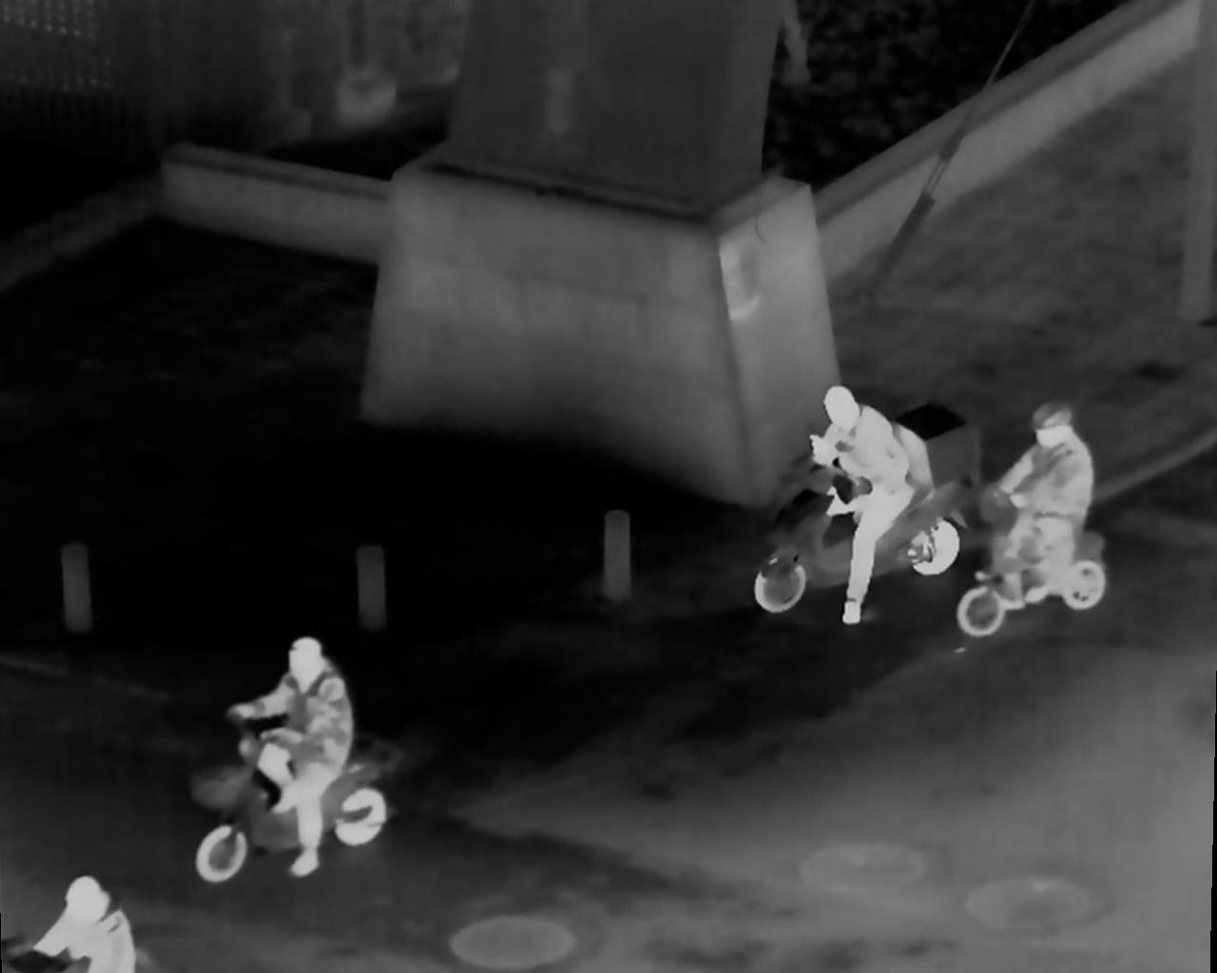person: (808, 381, 929, 638), (985, 403, 1108, 625), (252, 629, 351, 870), (26, 872, 127, 973)
